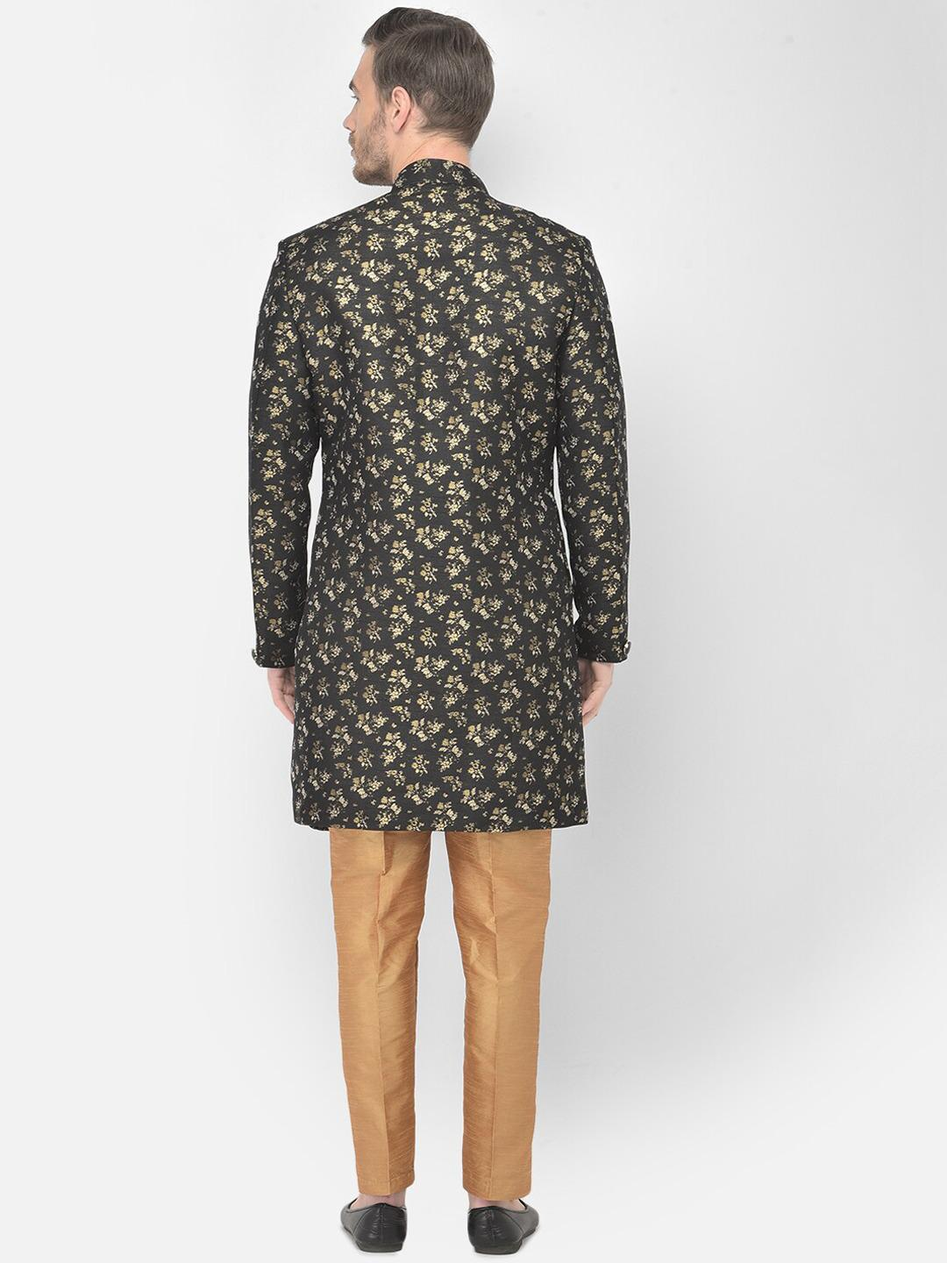Desgin sherwani: (239, 156, 635, 840)
